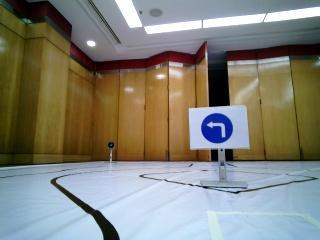left: (192, 109, 246, 149)
